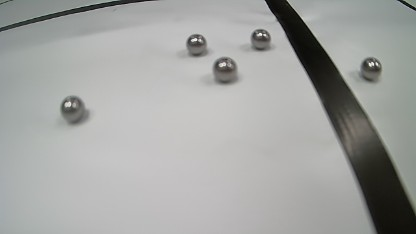ironball: (60, 95, 85, 123), (212, 56, 237, 83), (360, 57, 382, 81), (250, 28, 271, 50), (186, 34, 207, 55)
